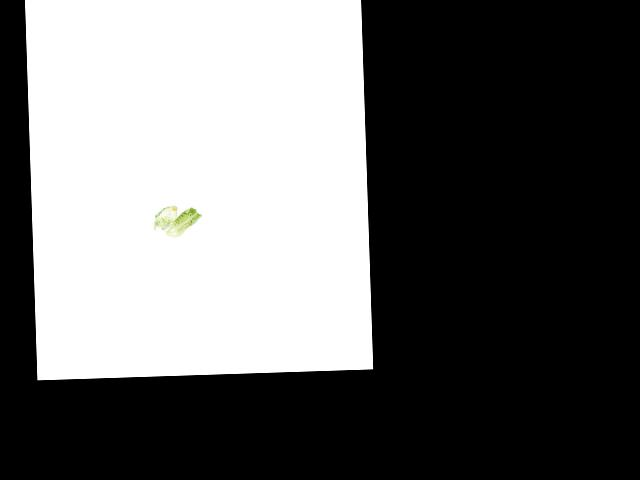lettuce: (151, 201, 179, 231)
